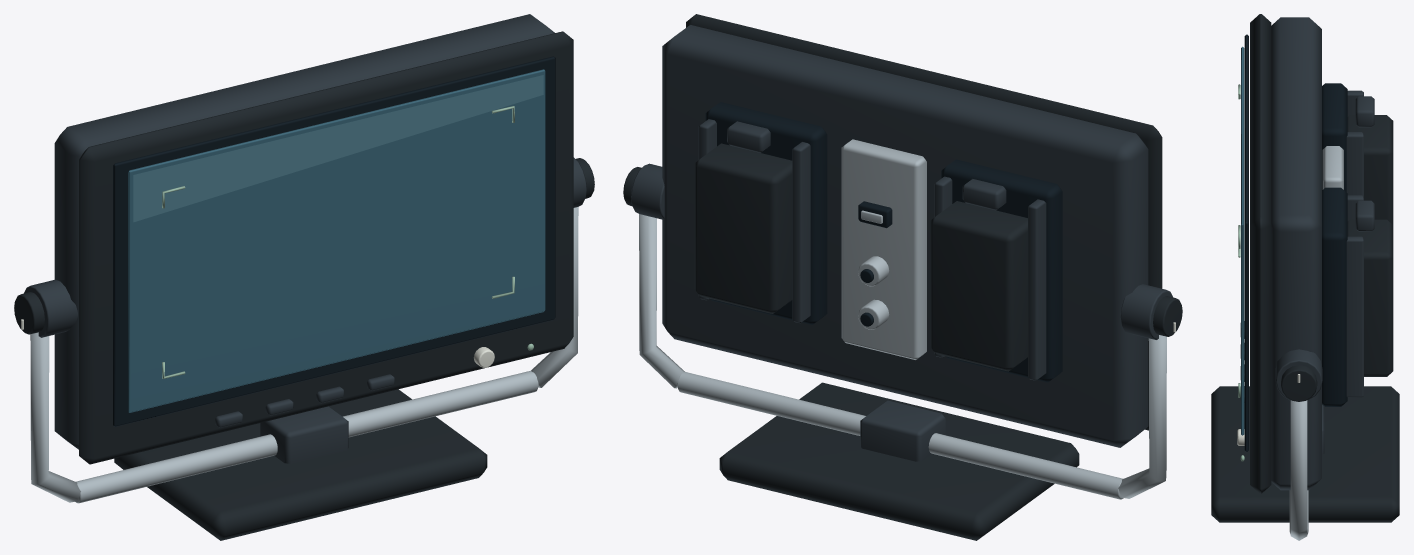
The model's file is P062_portable_monitor_rebuilt.glb.
3 renders of one model, left to right at view 1: azimuth 30°, elevation 25°; view 2: azimuth 150°, elevation 25°; view 3: azimuth 270°, elevation 25°, orthographic. The views are drawn at different scales.
Visible parts, largest first — view 1: LCD_blue_grey_glass, Molded_rubber_contact_pads, Graphite_molded_housing, Recess_and_speaker_cloth, Satin_aluminum_fittings, Screen_soft_reflection; view 2: Graphite_molded_housing, Molded_rubber_contact_pads, Satin_aluminum_fittings, Recess_and_speaker_cloth; view 3: Molded_rubber_contact_pads, Graphite_molded_housing, Recess_and_speaker_cloth, Satin_aluminum_fittings, LCD_blue_grey_glass.
Part boxes in pixels (x1,y1,x2,y2): LCD_blue_grey_glass: (128,69,545,412); Molded_rubber_contact_pads: (14,31,594,540); Graphite_molded_housing: (24,14,586,463); Recess_and_speaker_cloth: (113,56,555,426); Satin_aluminum_fittings: (30,207,578,503); Screen_soft_reflection: (133,75,543,222); Graphite_molded_housing: (631,25,1172,461); Molded_rubber_contact_pads: (623,14,1182,540); Satin_aluminum_fittings: (639,139,1166,499); Recess_and_speaker_cloth: (705,102,1062,382); Molded_rubber_contact_pads: (1211,14,1399,522); Graphite_molded_housing: (1240,17,1374,490); Recess_and_speaker_cloth: (1244,34,1347,451); Satin_aluminum_fittings: (1289,146,1343,540); LCD_blue_grey_glass: (1241,46,1244,435).
Size of the model in its own units: 0.5374 by 0.365 by 0.177.
